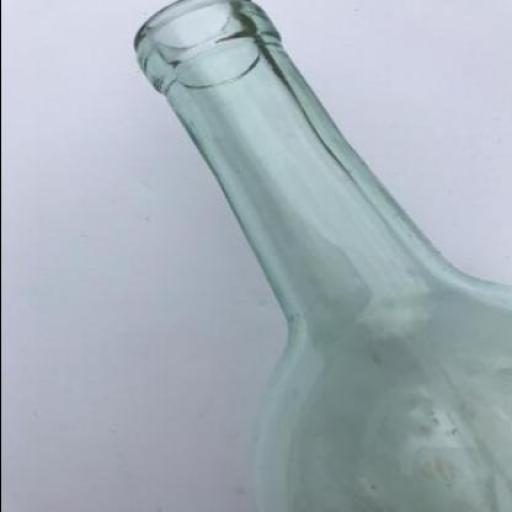glass: (133, 0, 511, 512)
